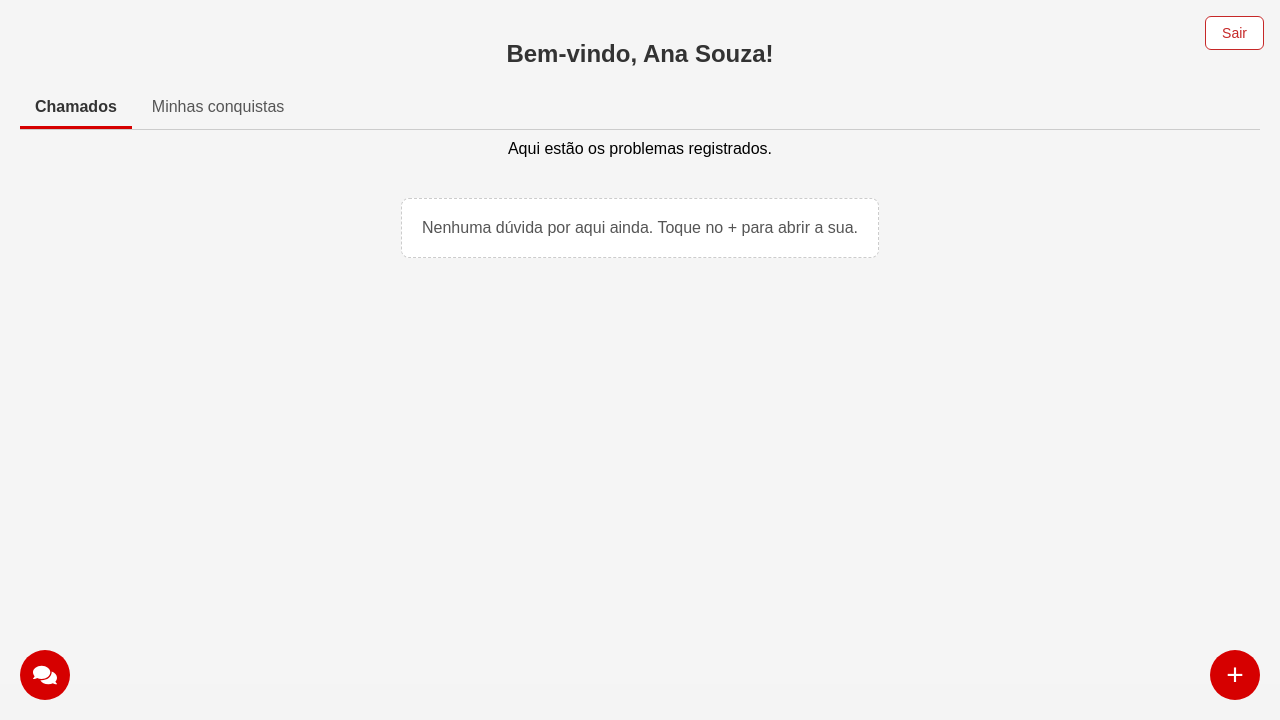
Test case: TelaAluno — a vitrine "Minhas conquistas" (AC-PERK-06) › mostra o perk vencido no histórico da vitrine, sem apagá-lo
What coordinates should you click on to do the following:
click the tab "Minhas conquistas"
I would click on:
 (218, 108)
Its box is top-left (137, 88), bottom-right (299, 129).
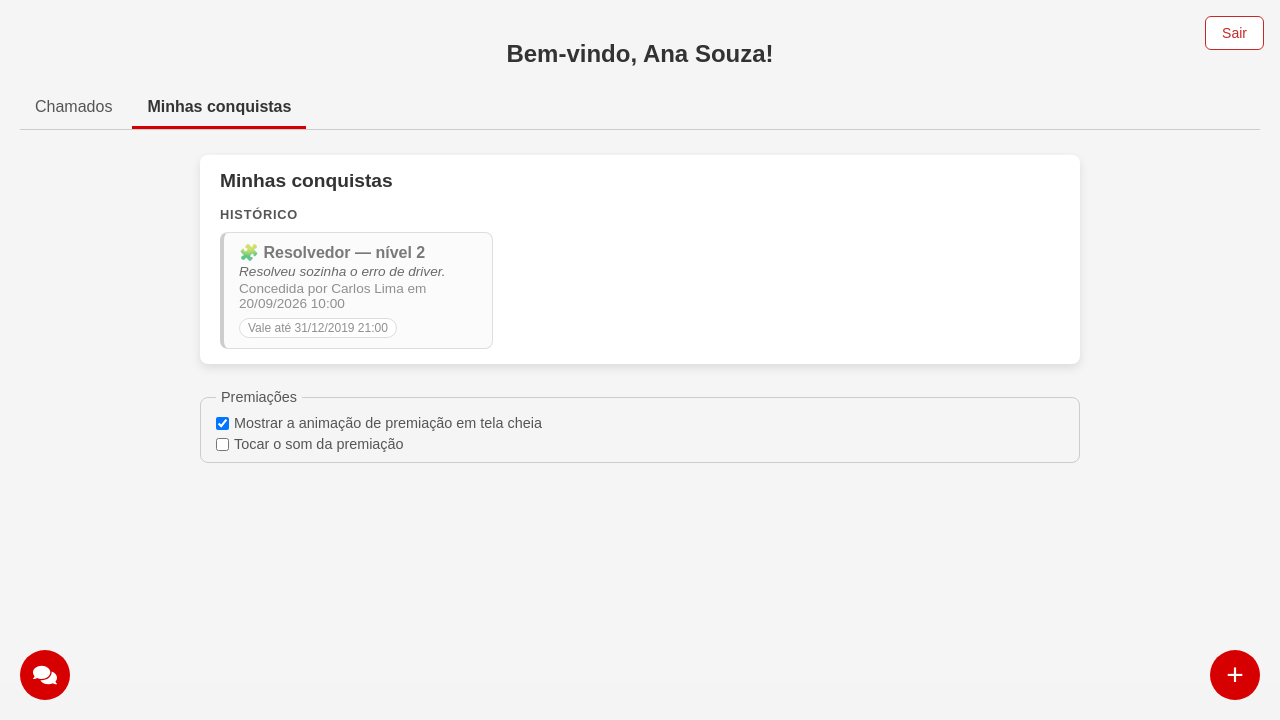
Expected: the list named "Histórico" is shown, top-left (220, 232), bottom-right (493, 349)
